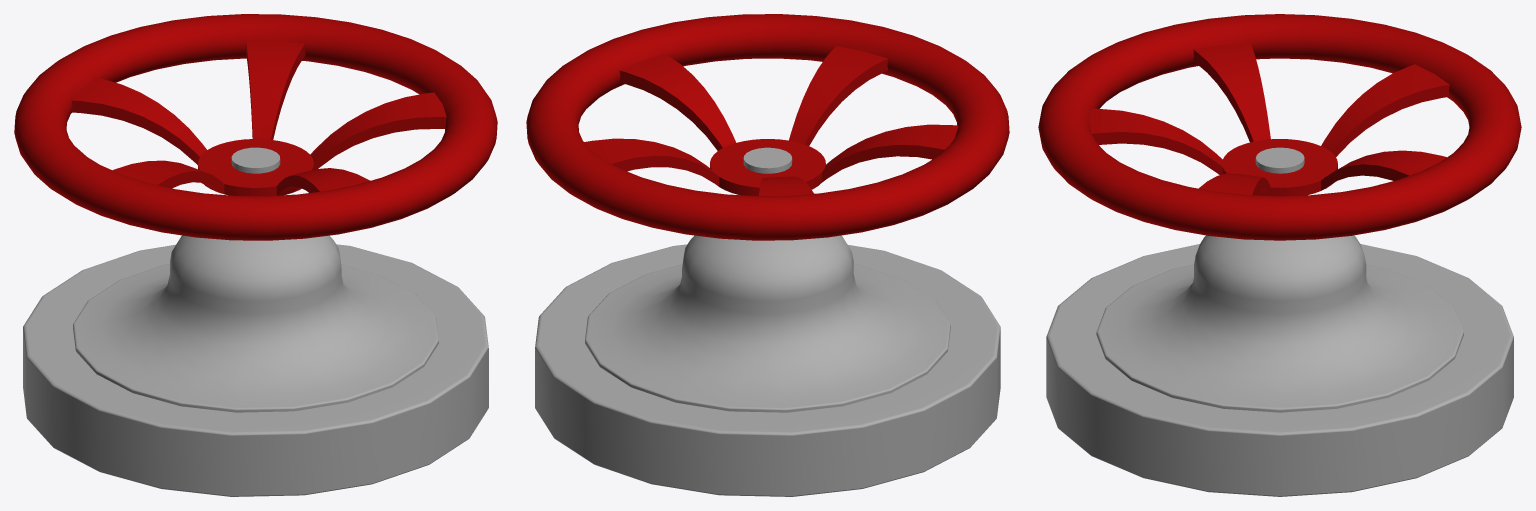
File: Pipe Cap.fbx
The picture shows the model from 3 angles, left to right: view 1: azimuth 30°, elevation 25°; view 2: azimuth 150°, elevation 25°; view 3: azimuth 270°, elevation 25°; orthographic projection.
Parts seen in each view (by area): view 1: pCylinder20, pCylinder22; view 2: pCylinder20, pCylinder22; view 3: pCylinder20, pCylinder22.
Part boxes in pixels (left/top/right/bottom): pCylinder20: left=23, top=147, right=488, bottom=496; pCylinder22: left=14, top=14, right=497, bottom=240; pCylinder20: left=535, top=147, right=1000, bottom=496; pCylinder22: left=526, top=14, right=1009, bottom=240; pCylinder20: left=1046, top=147, right=1513, bottom=496; pCylinder22: left=1038, top=14, right=1521, bottom=240.
Size of the model in its own units: 1.15 by 0.7662 by 1.15.
